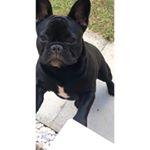puppy: (36, 1, 93, 97)
